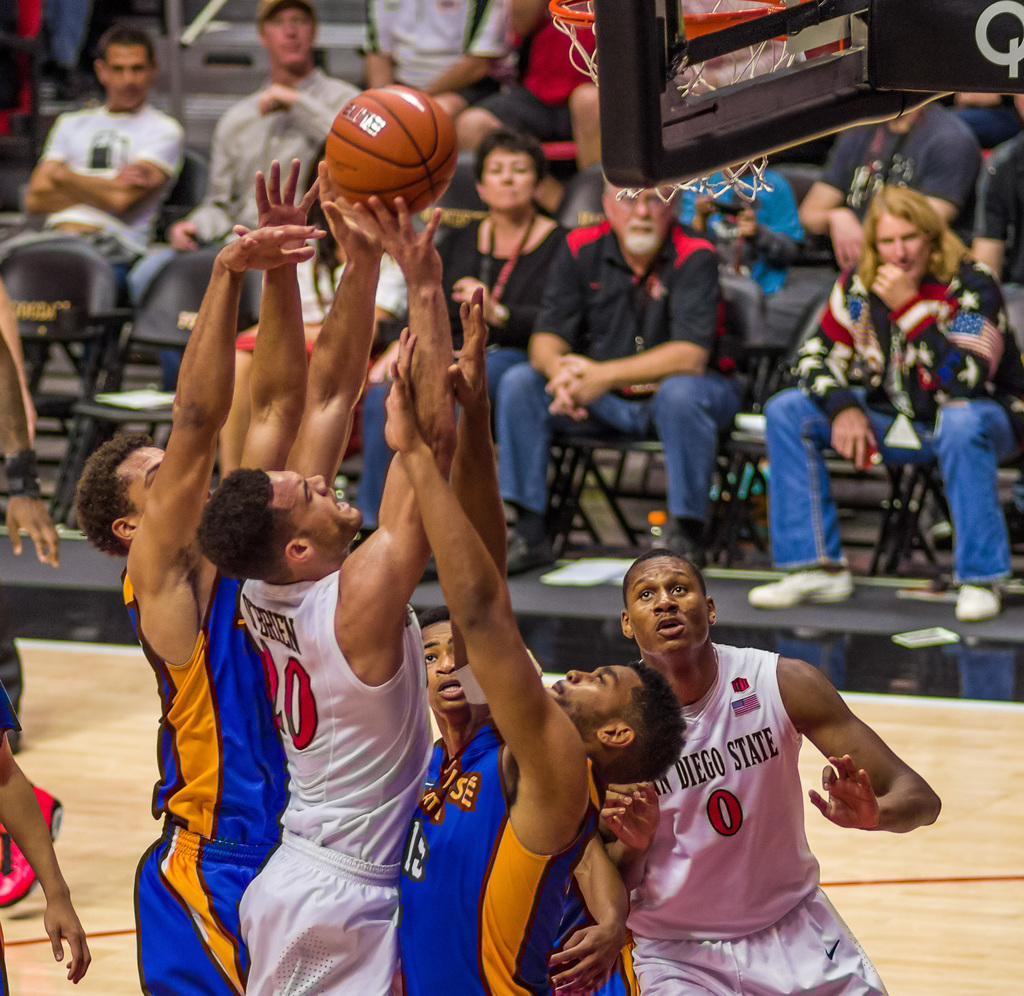Ball: (323, 86, 460, 220)
